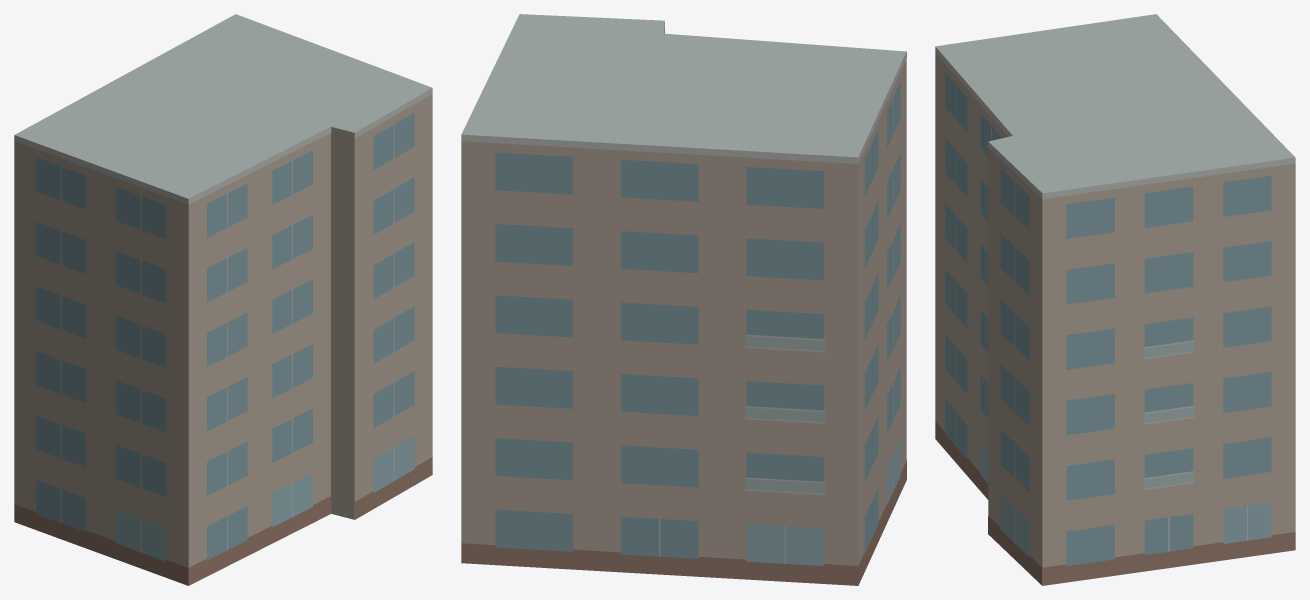
The model's file is survey-upis-32944731.glb.
3 views of the same model, side by side, from view 1: azimuth 30°, elevation 25°; view 2: azimuth 150°, elevation 25°; view 3: azimuth 270°, elevation 25° (orthographic). The views are drawn at different scales.
Parts seen in each view (by area): view 1: survey-upis-32944731.tmp; view 2: survey-upis-32944731.tmp; view 3: survey-upis-32944731.tmp.
Boxes of the visible parts, x1,y1,x2,y2 form: survey-upis-32944731.tmp: [14, 14, 432, 585]; survey-upis-32944731.tmp: [461, 14, 906, 585]; survey-upis-32944731.tmp: [935, 14, 1295, 585].
Bounding box in the file's own units: 15.68 × 16 × 13.32.
